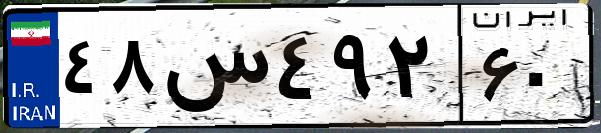0: (525, 38, 570, 115)
2: (385, 28, 445, 110)
4: (270, 28, 330, 110), (57, 26, 110, 100)
6: (475, 38, 525, 113)
8: (110, 28, 158, 98)
9: (330, 28, 385, 110)
س: (158, 20, 270, 120)
